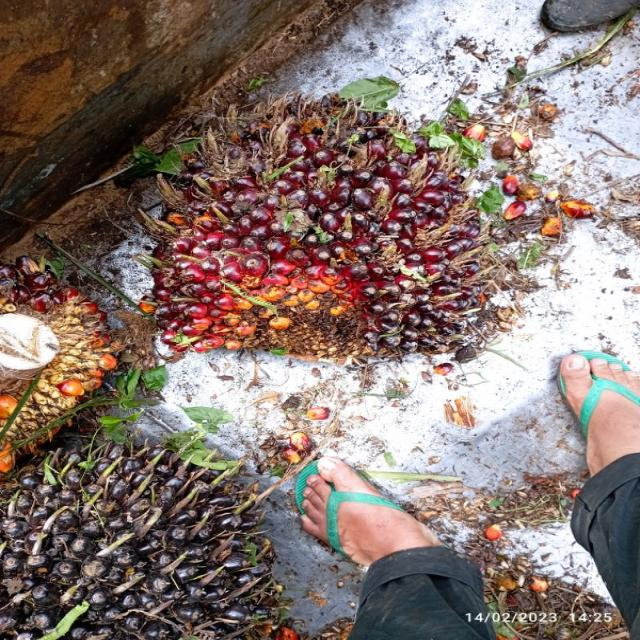fraksi 00: (0, 422, 284, 640)
fraksi 1: (98, 50, 555, 400)
